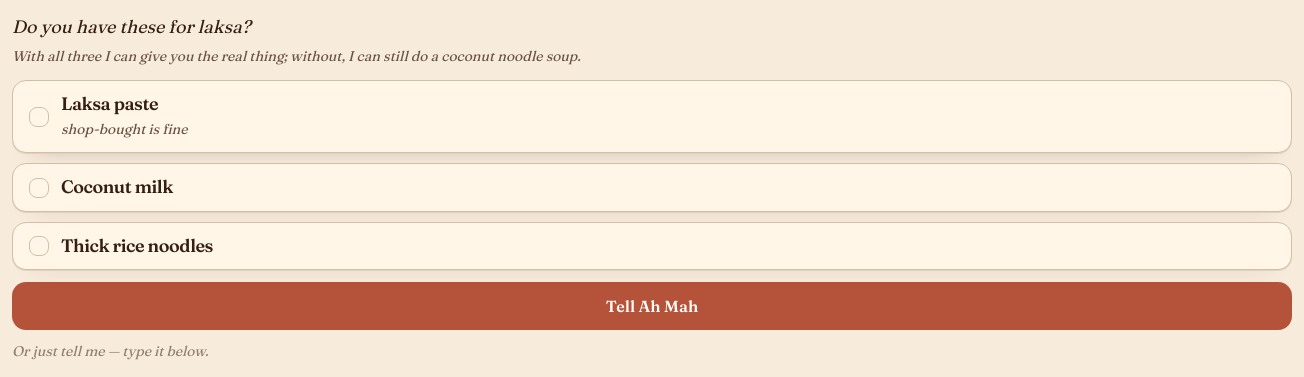
Scenario: ChecklistBlock › rests on a neutral submit label and only sharpens once something is ticked
This screenshot has width=1304, height=377.
Expected: the button "Tell Ah Mah" is shown, x1=12 y1=282 x2=1292 y2=330
Click the text "Coconut milk".
click(117, 187)  # box x1=61 y1=175 x2=173 y2=198
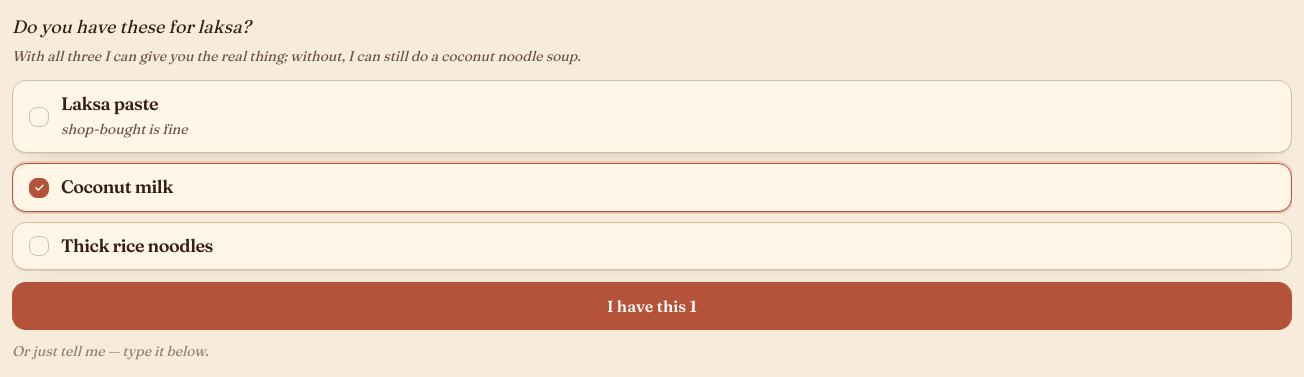
Now the button "I have this 1" is shown, box x1=12 y1=282 x2=1292 y2=330
